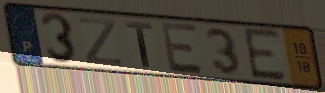3: (39, 11, 79, 66), (205, 26, 244, 77)
E: (241, 25, 289, 84), (158, 20, 207, 76)
T: (123, 20, 154, 70)
Z: (77, 15, 124, 68)
